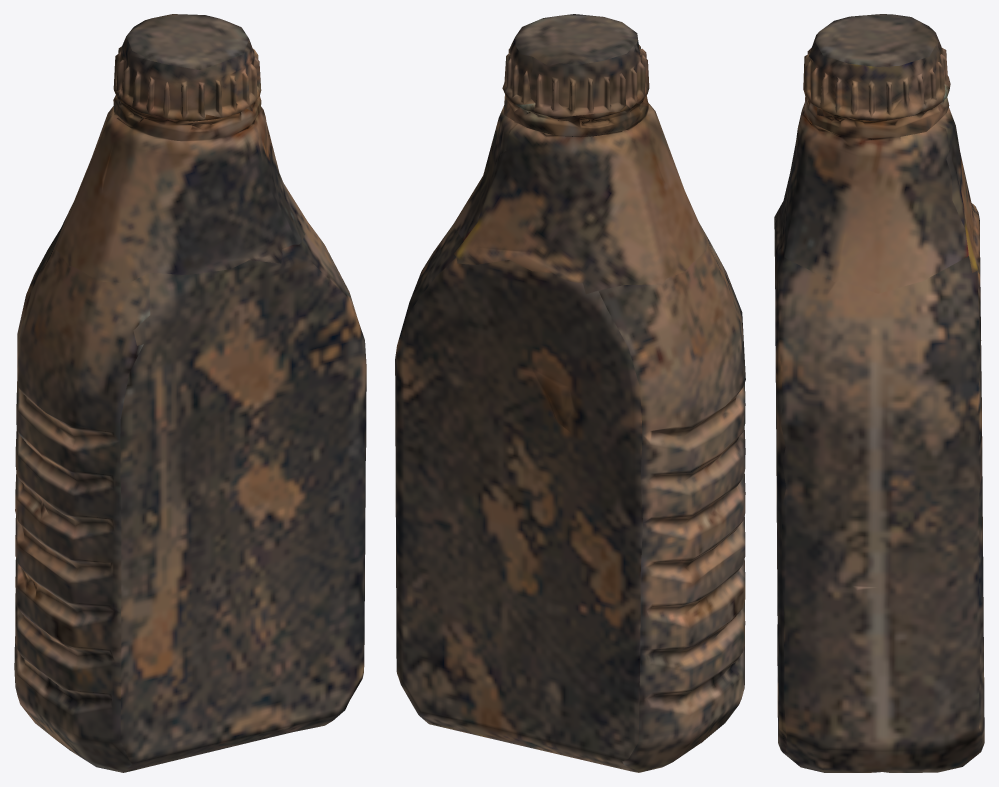
File: SM_Ind_Con_Oil_Plastic_Pack_02_C.gltf
3 renders of one model, left to right at view 1: azimuth 30°, elevation 25°; view 2: azimuth 150°, elevation 25°; view 3: azimuth 270°, elevation 25°, orthographic.
Parts seen in each view (by area): view 1: SM_Ind_Con_Oil_Plastic_Pack_02_C; view 2: SM_Ind_Con_Oil_Plastic_Pack_02_C; view 3: SM_Ind_Con_Oil_Plastic_Pack_02_C.
Boxes of the visible parts, x1,y1,x2,y2 form: SM_Ind_Con_Oil_Plastic_Pack_02_C: (14, 14, 366, 772); SM_Ind_Con_Oil_Plastic_Pack_02_C: (395, 14, 745, 772); SM_Ind_Con_Oil_Plastic_Pack_02_C: (774, 14, 984, 772).
Bounding box in the file's own units: 0.0988 × 0.2203 × 0.0616.
1 material, 1 textured.
